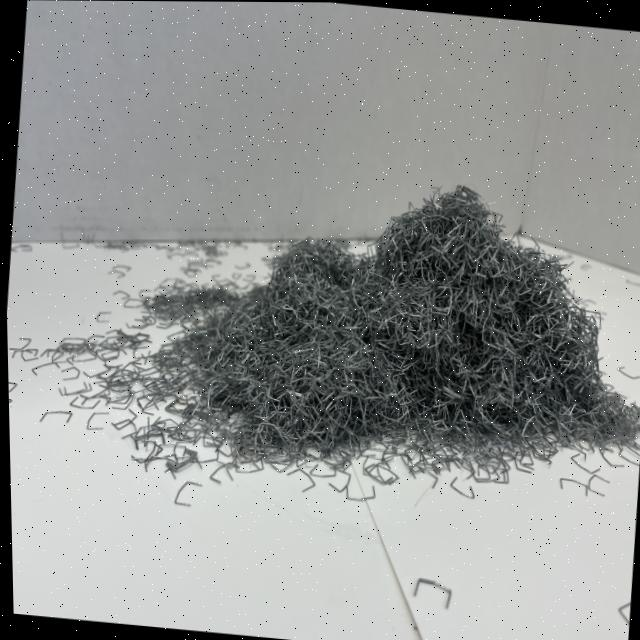staples: (141, 154, 640, 494)
